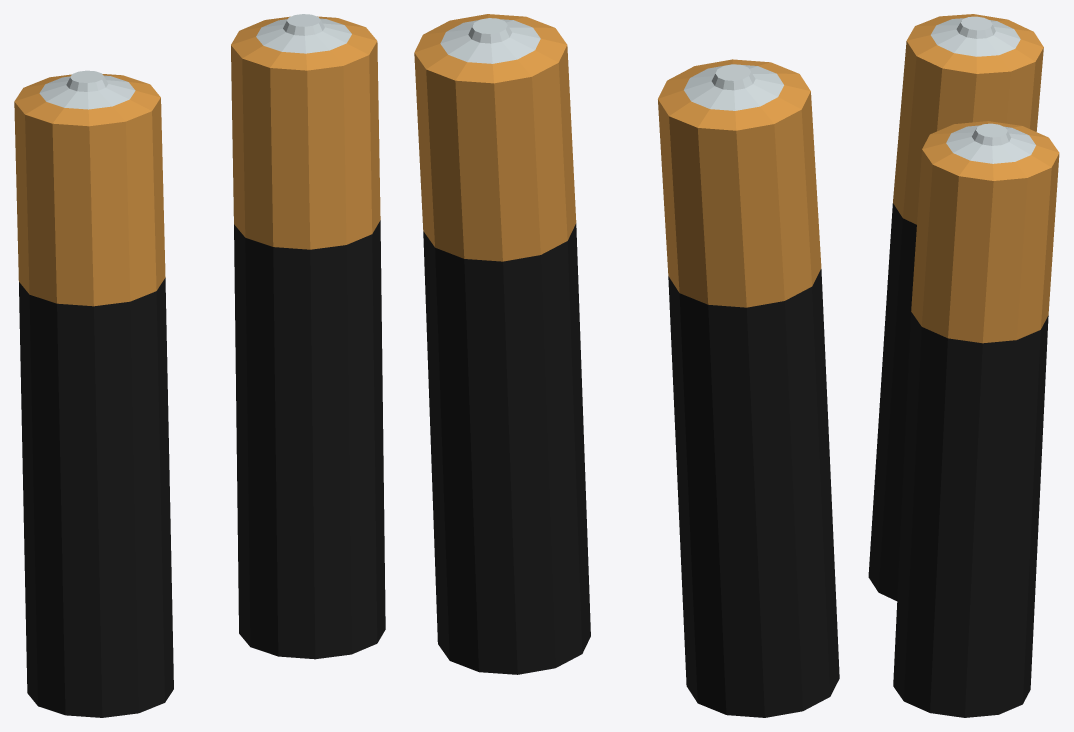
Rendered from baterai_pack.glb.
The picture shows the model from 3 angles, left to right: view 1: azimuth 30°, elevation 25°; view 2: azimuth 150°, elevation 25°; view 3: azimuth 270°, elevation 25°; orthographic projection. The views are drawn at different scales.
Visible parts, largest first — view 1: group302301610, group1420681025; view 2: group1420681025, group302301610; view 3: group1420681025, group302301610.
Part boxes in pixels (<box>): group302301610: <box>14,70,173,717</box>; group1420681025: <box>231,14,385,659</box>; group1420681025: <box>414,14,590,674</box>; group302301610: <box>658,59,839,717</box>; group1420681025: <box>893,121,1059,717</box>; group302301610: <box>868,14,1043,600</box>.
Bounding box in the file's own units: 0.6065 × 0.9786 × 0.2977.
